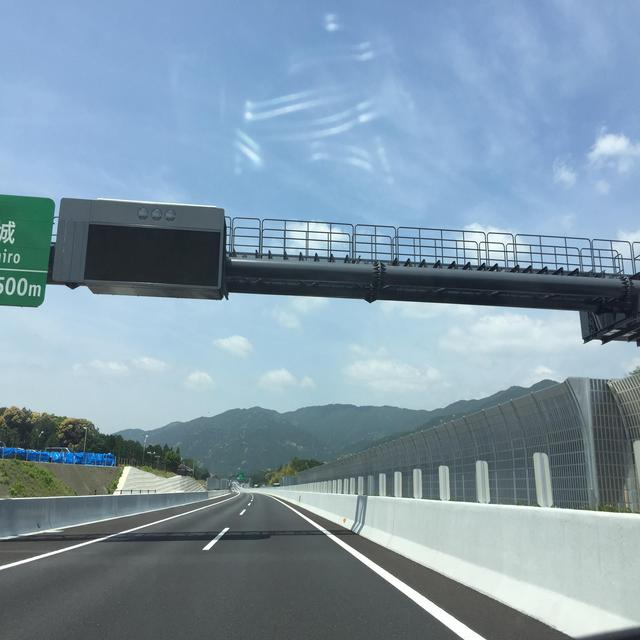Barrier: (235, 483, 639, 635), (0, 489, 231, 537)
Car: (45, 447, 61, 451)
Vegetation: (0, 406, 220, 488), (247, 456, 324, 487)
